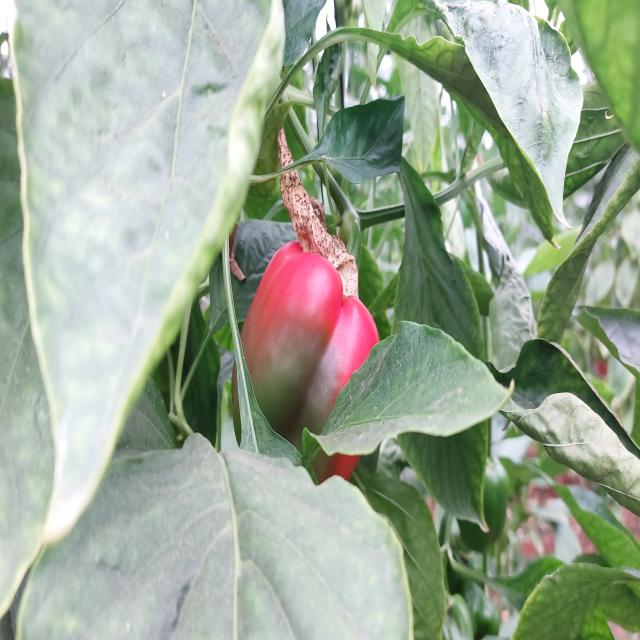Red-Ready-to-Harvest: (242, 206, 403, 514)
